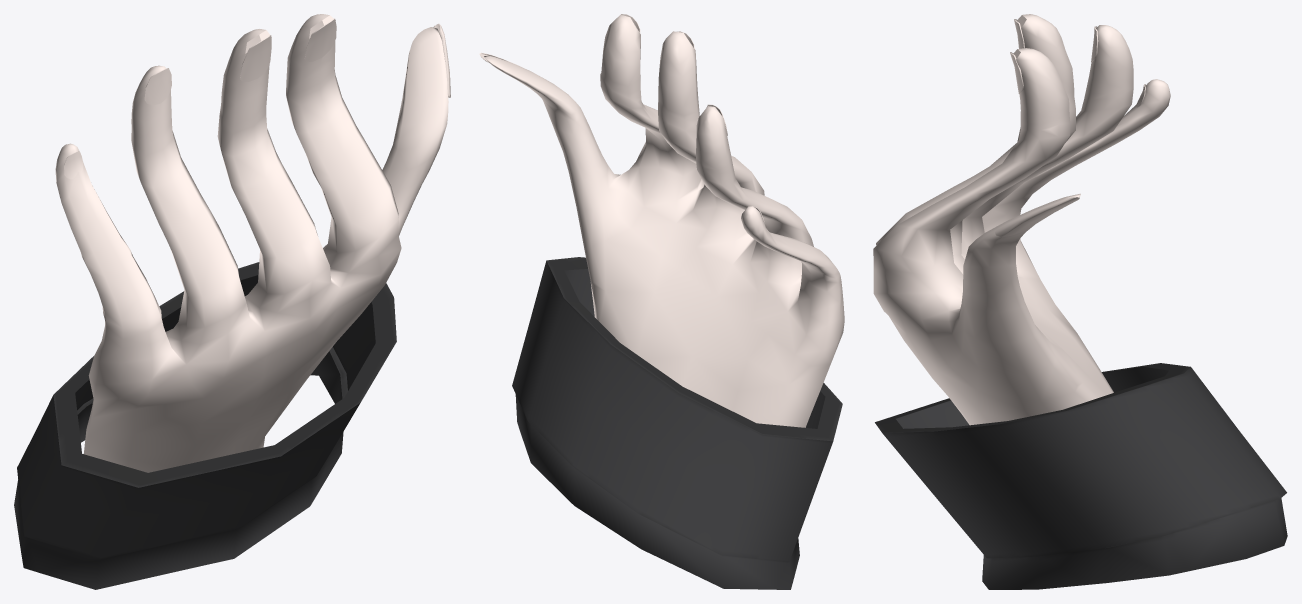
File: RyoFretHand.obj
3 views of the same model, side by side, from view 1: azimuth 30°, elevation 25°; view 2: azimuth 150°, elevation 25°; view 3: azimuth 270°, elevation 25° (orthographic). The views are drawn at different scales.
Size of the model in its own units: 0.152 by 0.2017 by 0.1202.
Materials: 2 (2 with a texture image).
